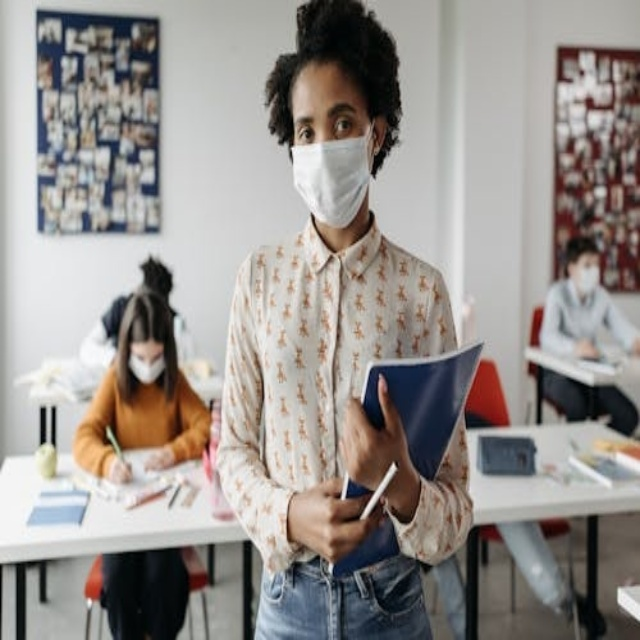Mascara: (292, 123, 376, 226), (128, 350, 167, 385), (574, 265, 600, 295)
Sin_gafas: (293, 121, 372, 153), (334, 117, 353, 133), (298, 126, 314, 142)
Sin_guantes: (337, 373, 409, 496), (295, 473, 384, 569)
